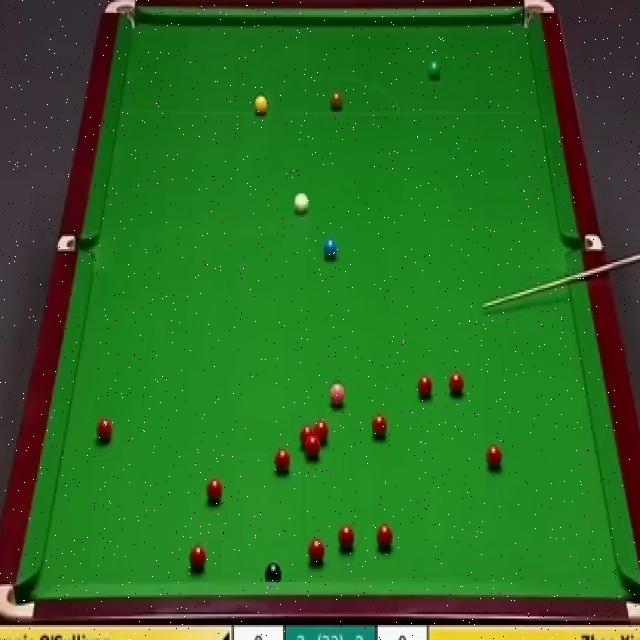black-ball: (265, 562, 282, 582)
blue-ball: (321, 234, 338, 262)
brown-ball: (330, 91, 342, 111)
green-ball: (425, 61, 442, 81)
pink-ball: (329, 378, 346, 408)
red-ball: (96, 416, 115, 446), (416, 373, 434, 403), (205, 476, 222, 506), (189, 544, 207, 572), (376, 523, 394, 551), (485, 447, 503, 474), (338, 525, 355, 552), (448, 373, 465, 399), (309, 538, 325, 565), (371, 413, 387, 440), (314, 421, 330, 447), (275, 448, 290, 473), (300, 425, 314, 447), (306, 438, 320, 459)
white-ball: (292, 189, 311, 219)
yellow-ball: (253, 93, 268, 115)
